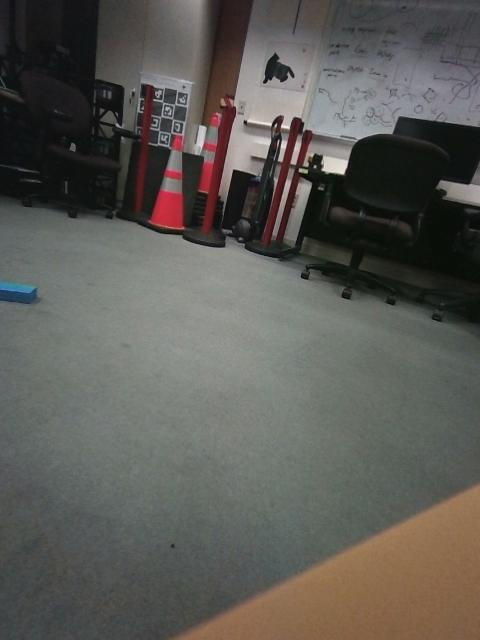block: (122, 280, 175, 325)
